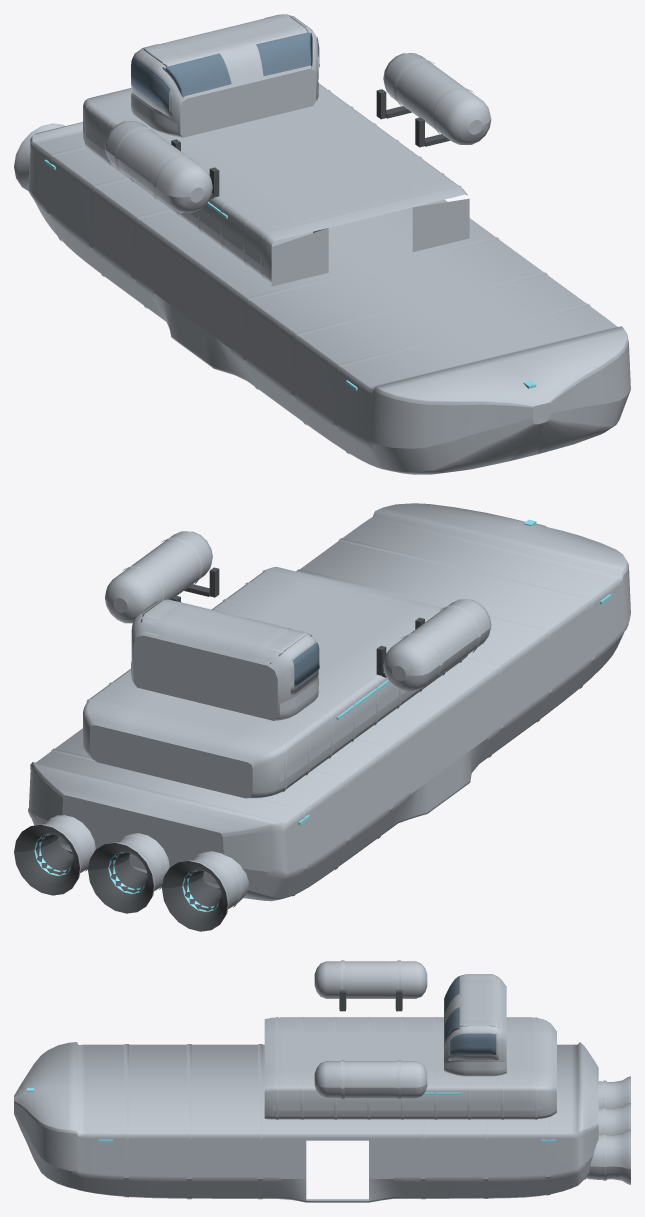
Rendered from dray-hull.glb.
3 views of the same model, one above another, from view 1: azimuth 30°, elevation 25°; view 2: azimuth 150°, elevation 25°; view 3: azimuth 270°, elevation 25° (orthographic). The views are drawn at different scales.
Visible parts, largest first — view 1: hull, trim, accent, glass, dark; view 2: hull, trim, accent, dark, glow, glass; view 3: hull, trim, accent, glass.
Part boxes in pixels (box(x1,y1,x2,y2)): hull: box(28, 14, 630, 474); trim: box(28, 14, 590, 454); accent: box(14, 53, 491, 212); glass: box(131, 32, 319, 111); dark: box(171, 89, 450, 199); hull: box(28, 503, 630, 901); trim: box(28, 523, 628, 907); accent: box(32, 531, 491, 914); dark: box(14, 567, 424, 931); glow: box(34, 519, 611, 912); glass: box(257, 620, 319, 687); hull: box(14, 974, 598, 1202); trim: box(72, 974, 606, 1199); accent: box(314, 960, 630, 1184); glass: box(445, 976, 496, 1056).
Bounding box in the file's own units: 13.2 × 8.75 × 29.55.
